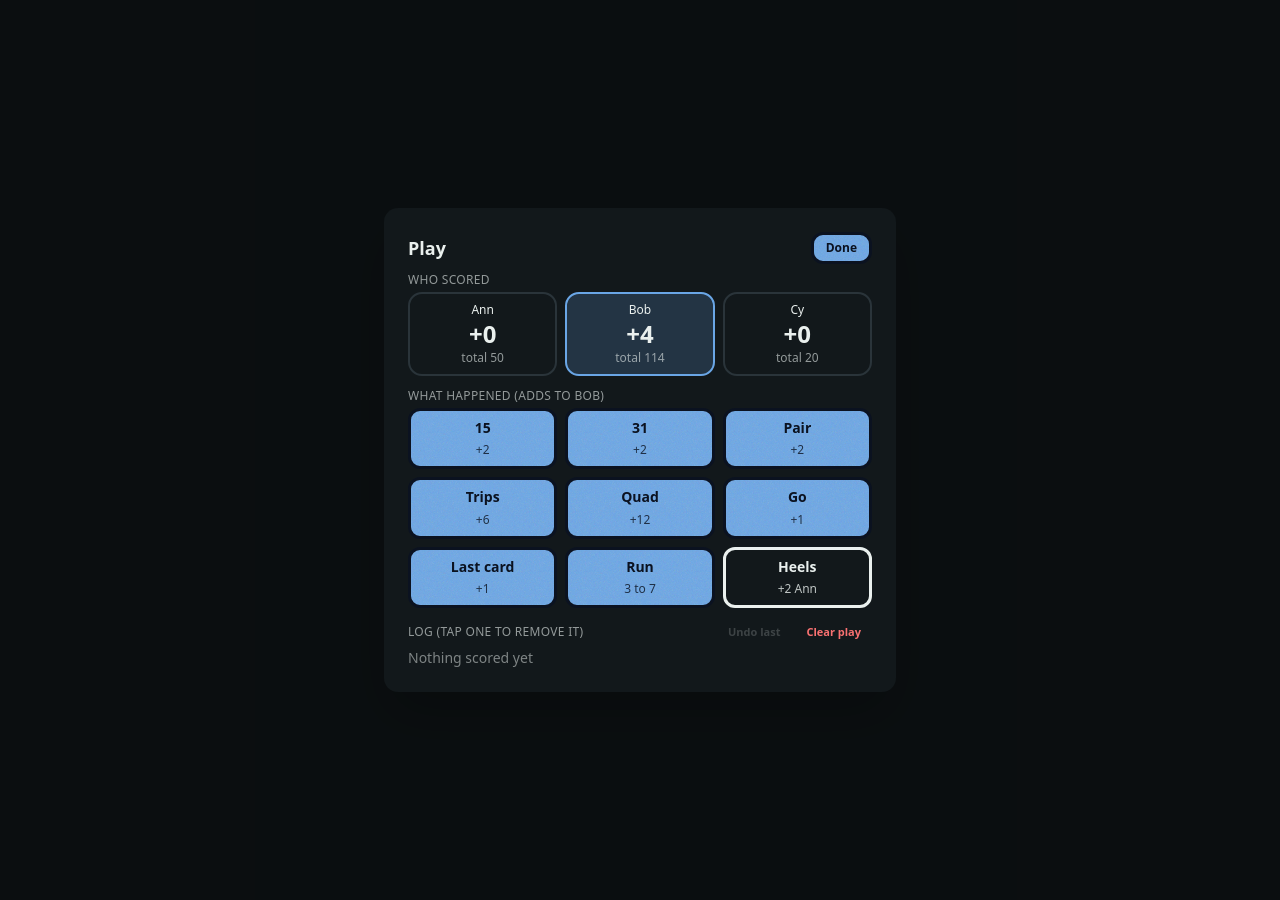
Scenario: PlaySheet › logs events for all players in order
Click the text "15" at (483, 428), box [475,419,491,436]
Wait 2100 ms
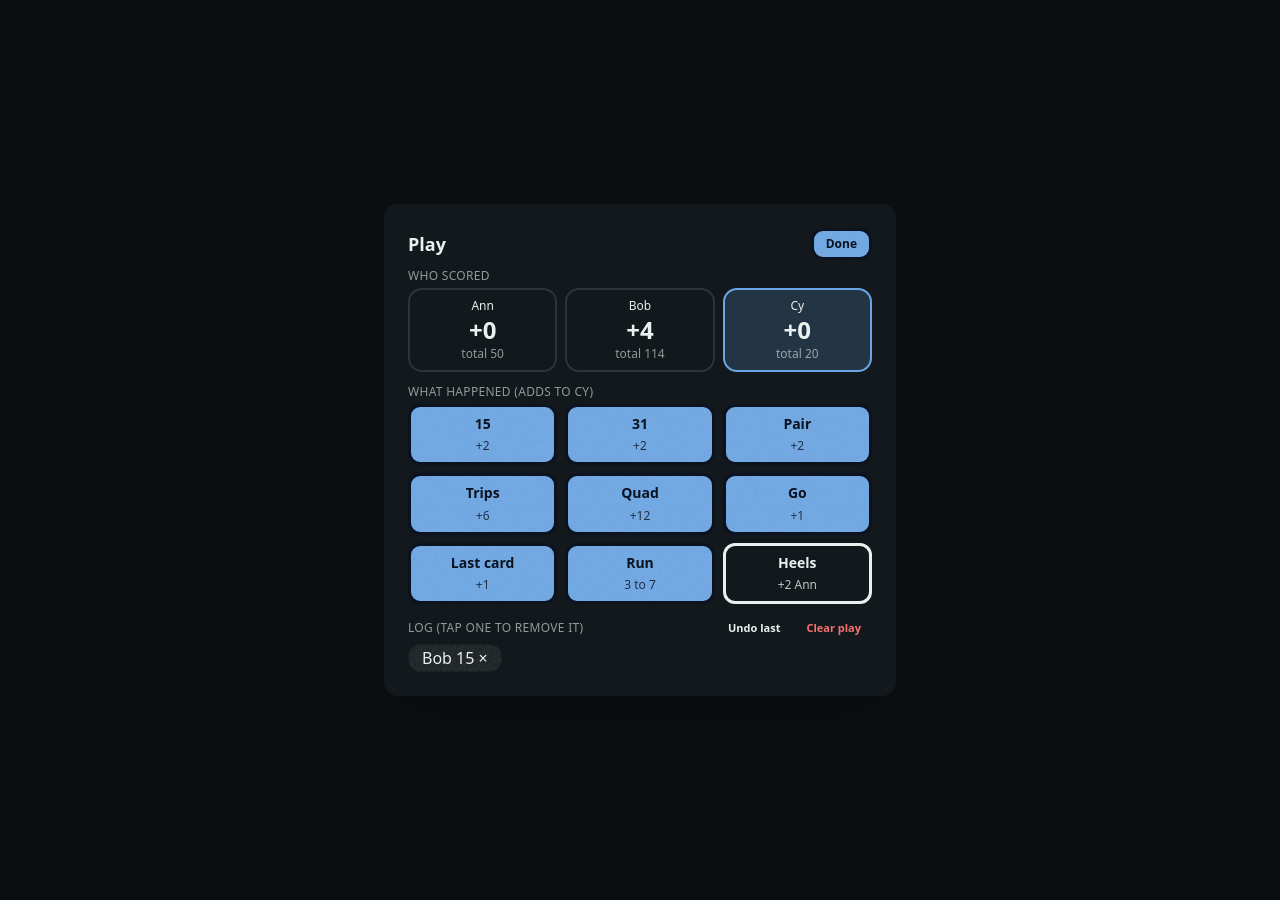
Click the text "Trips" at (483, 493), box [466,484,500,502]
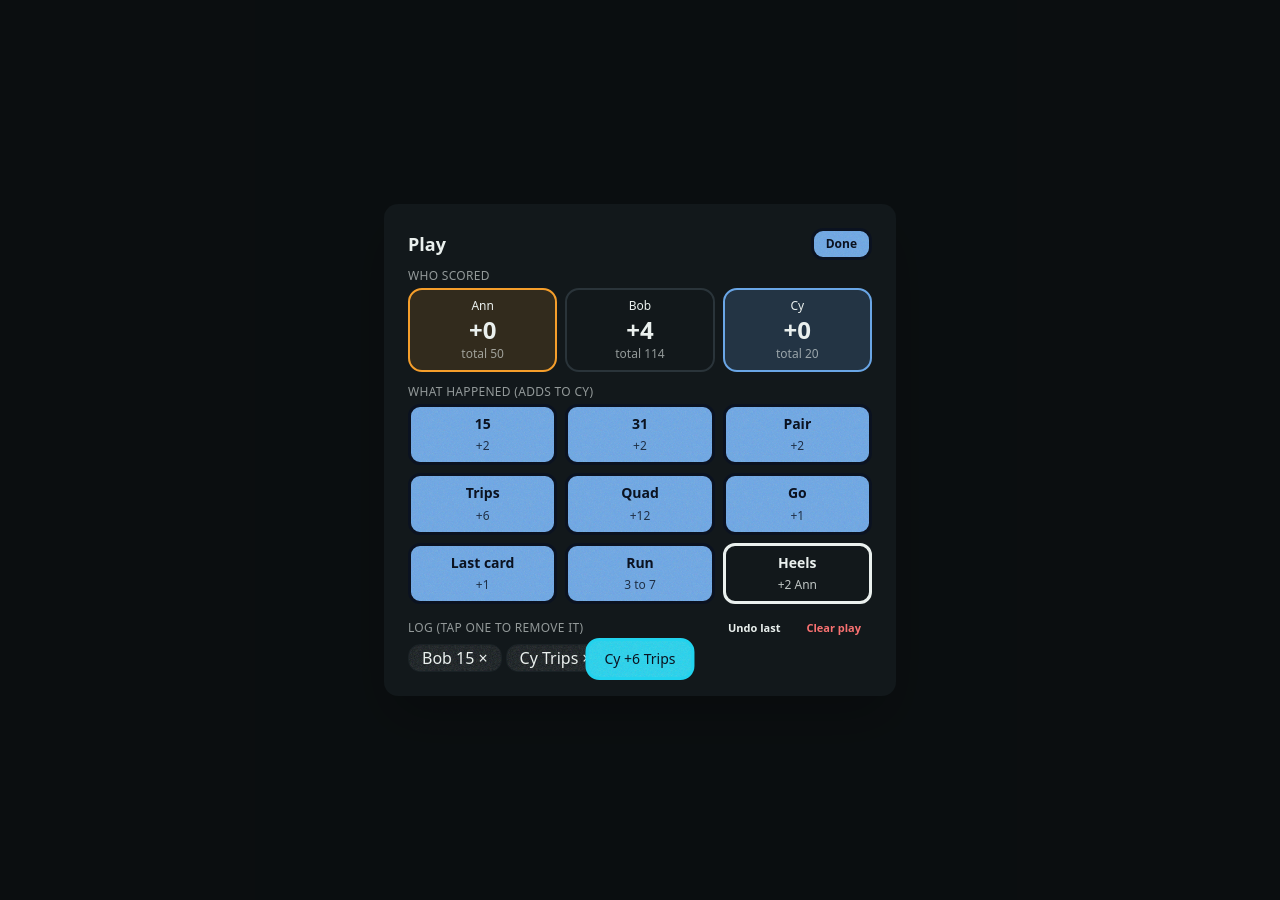
Now the element with test id "play-log" reads "Bob 15 × Cy Trips ×", box [408,644,606,672]
